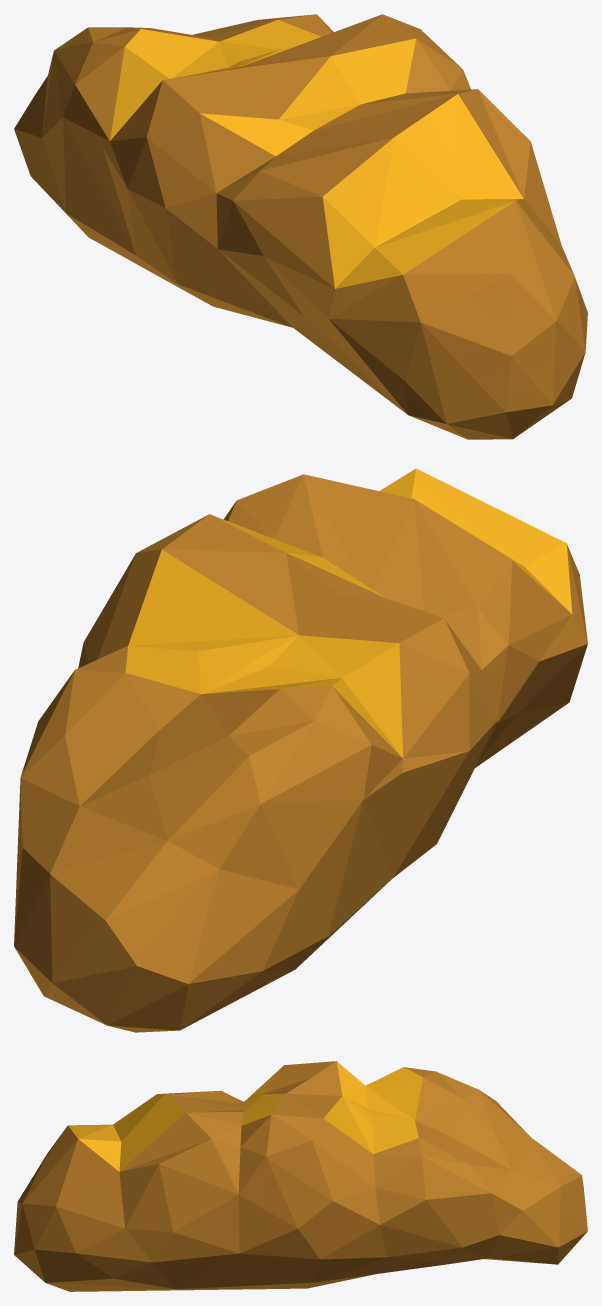
Rendered from Bread.fbx.
3 renders of one model, top to bottom at view 1: azimuth 30°, elevation 25°; view 2: azimuth 150°, elevation 25°; view 3: azimuth 270°, elevation 25°, orthographic. The views are drawn at different scales.
Parts seen in each view (by area): view 1: Bread; view 2: Bread; view 3: Bread.
Boxes of the visible parts, x1,y1,x2,y2 form: Bread: [14, 14, 587, 439]; Bread: [14, 468, 587, 1032]; Bread: [14, 1061, 587, 1291].
Size of the model in its own units: 0.1448 by 0.1142 by 0.3122.
